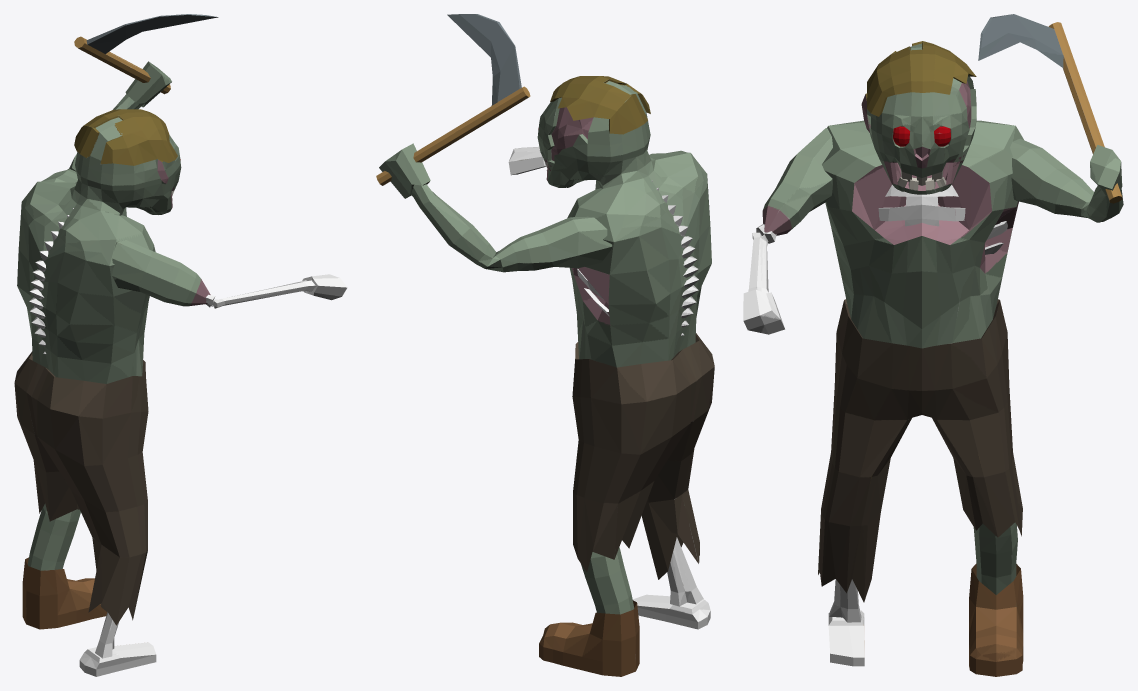
The model's file is ZOMBIE_BASE_proto.obj.
3 views of the same model, side by side, from view 1: azimuth 30°, elevation 25°; view 2: azimuth 150°, elevation 25°; view 3: azimuth 270°, elevation 25° (orthographic). The views are drawn at different scales.
Parts seen in each view (by area): view 1: Cube.006_Cube.003; view 2: Cube.006_Cube.003; view 3: Cube.006_Cube.003.
Boxes of the visible parts, x1,y1,x2,y2 form: Cube.006_Cube.003: (14, 14, 347, 676); Cube.006_Cube.003: (376, 14, 714, 676); Cube.006_Cube.003: (743, 14, 1123, 676).
Size of the model in its own units: 3.33 by 7.56 by 3.8.
1 material, 1 textured.
